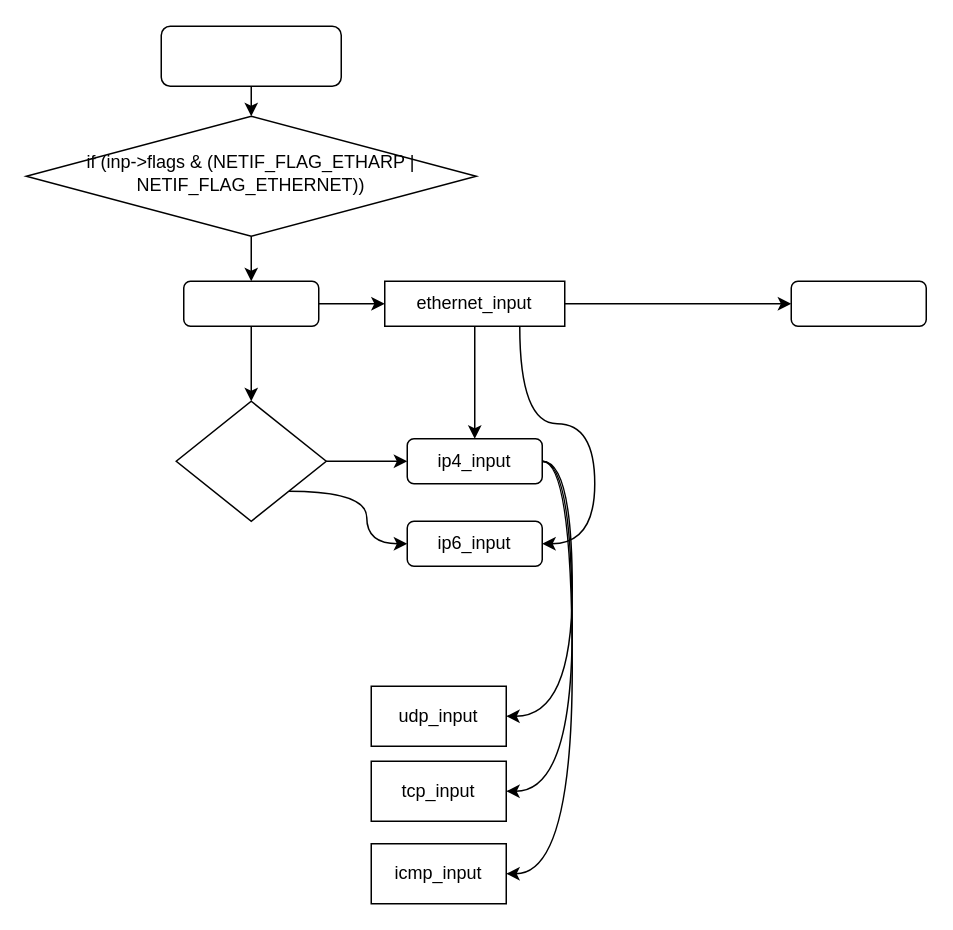
The diagram is 953 pixels wide and 930 high, and some of its shapes have lost their labels. Here are the shapes that lost their labels. From the top down, the box of each, then its label:
(160, 25, 341, 86): tcpip_input
(182, 280, 319, 326): tcpip_inpkt
(790, 280, 926, 326): etharp_input
(175, 400, 326, 521): ip_input
